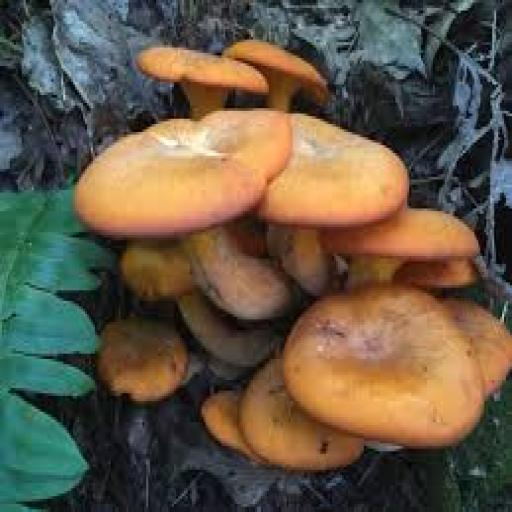Jack O Lantern Mushroom: (69, 100, 299, 324), (271, 283, 488, 442), (248, 113, 409, 299), (237, 351, 370, 482), (321, 190, 481, 293), (90, 310, 199, 407), (132, 47, 270, 113), (227, 32, 332, 113), (193, 384, 268, 467)
